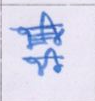i_matra: (43, 12, 64, 44)
